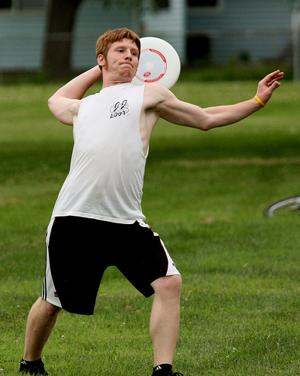person: (19, 26, 284, 376)
